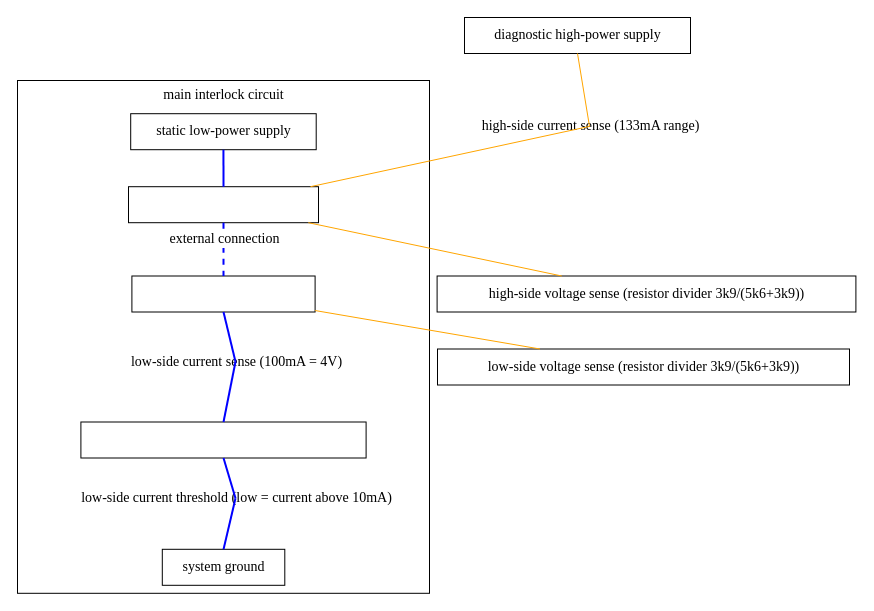
This 874x611 diagram has some shape labels left out. The centre of each missing label's shape, as x and y in pixels:
"interlock connector high" belongs at [223,204].
"interlock connector low" belongs at [223,293].
"low-side current regulation (to 50mA)" belongs at [223,439].
